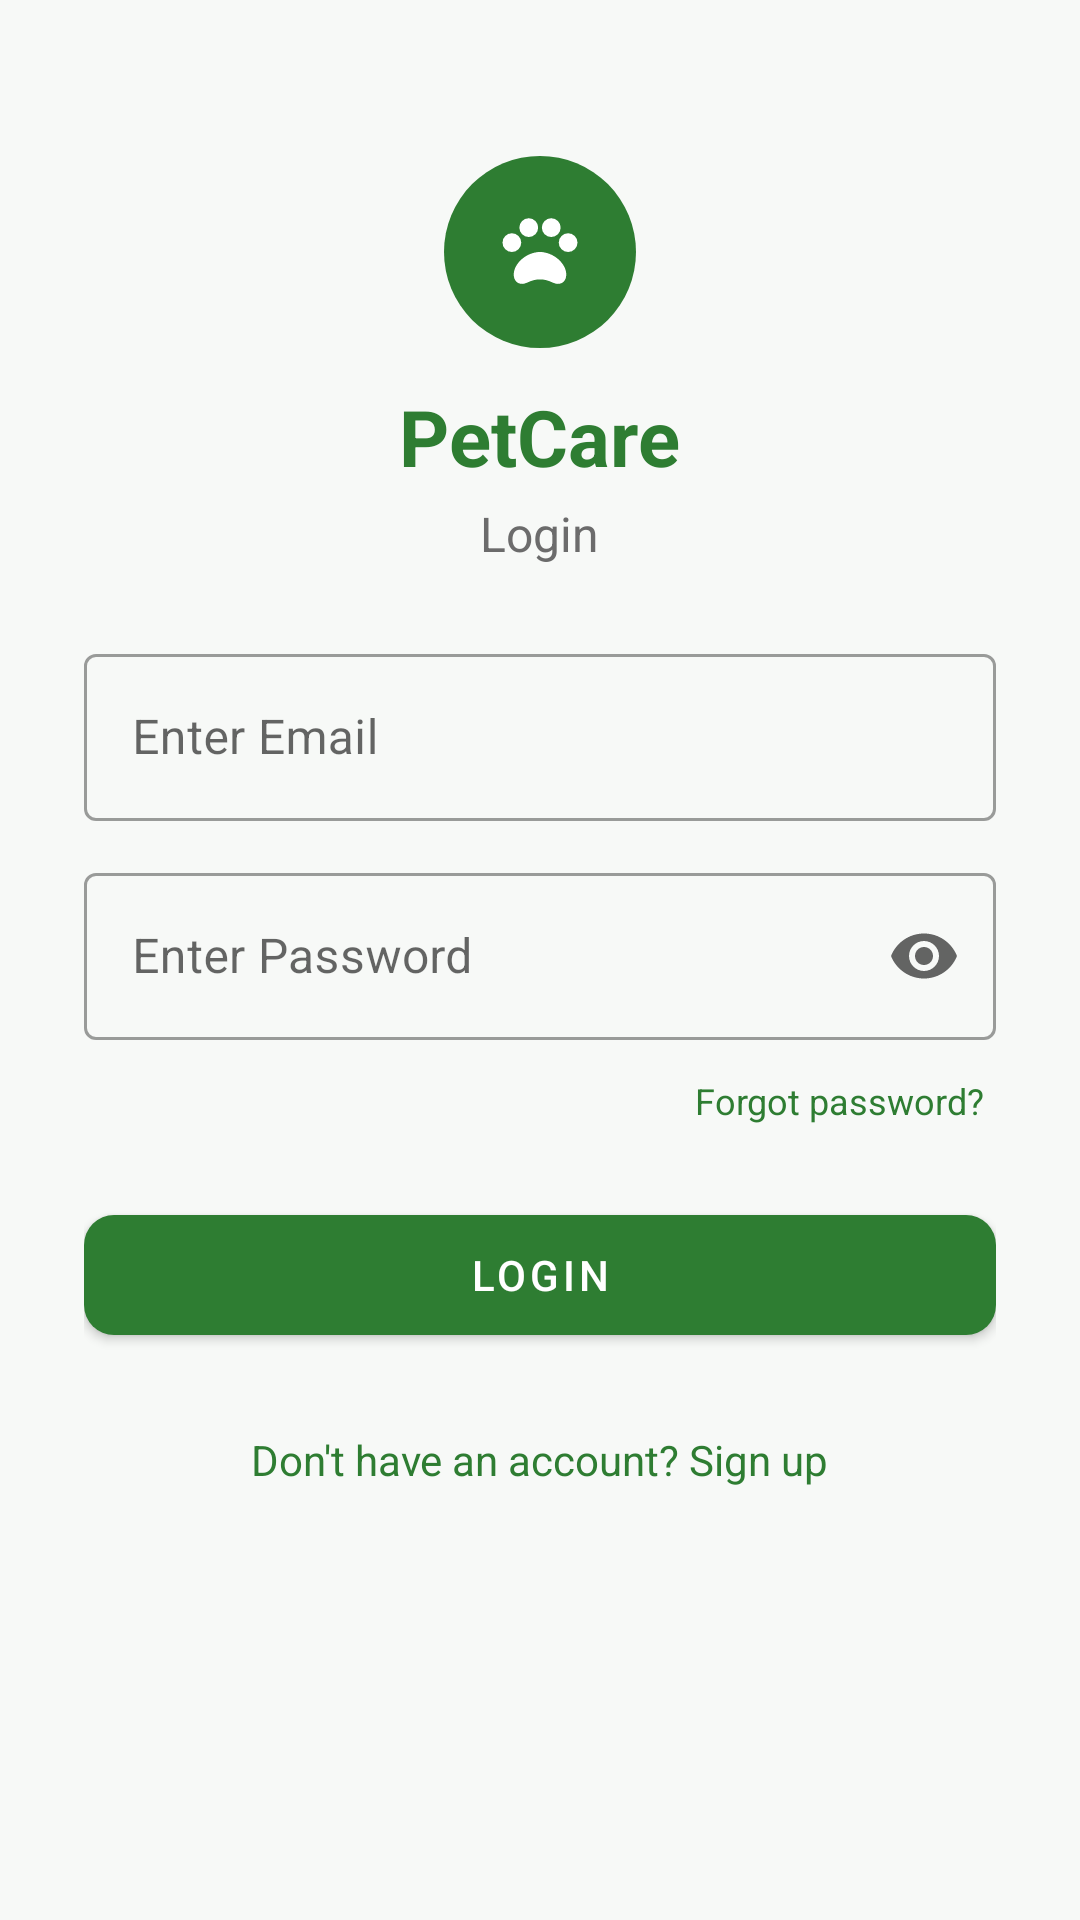

Where icons sit on this 1080×1920 app screen, as bbox(x1, y1, x2, y2):
species paw: bbox(502, 218, 578, 284)
